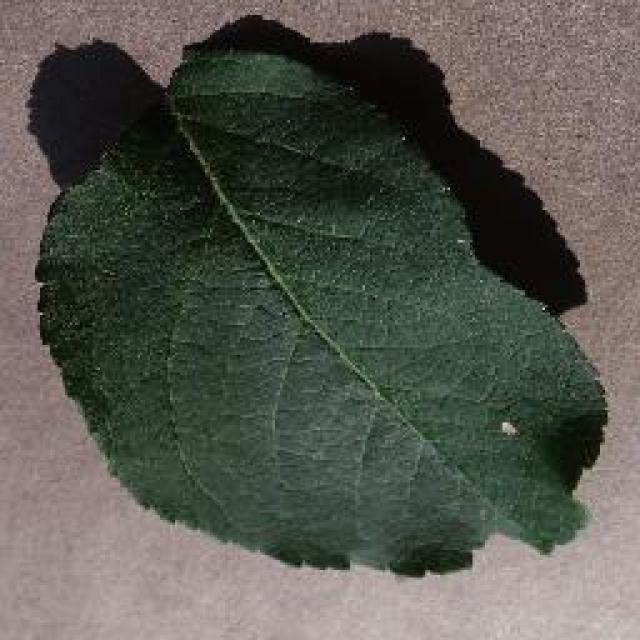apple healthy: (30, 12, 610, 578)
